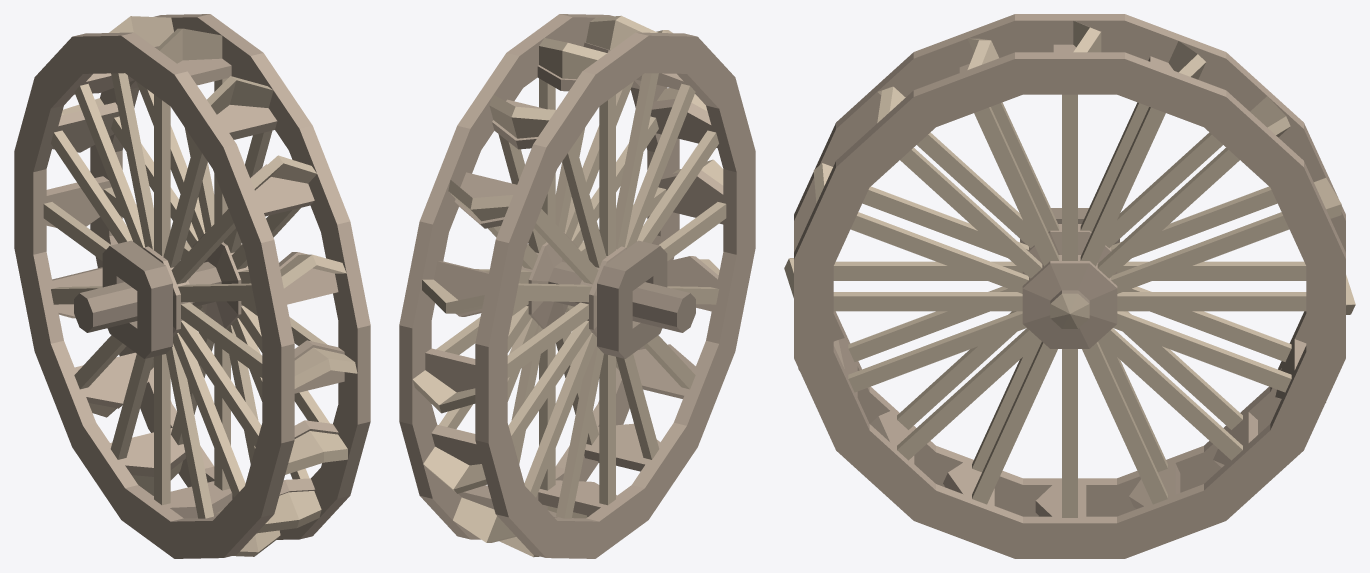
Rendered from Waterwheel_1.glb.
The picture shows the model from 3 angles, left to right: view 1: azimuth 30°, elevation 25°; view 2: azimuth 150°, elevation 25°; view 3: azimuth 270°, elevation 25°; orthographic projection. The views are drawn at different scales.
Parts seen in each view (by area): view 1: waterwheel; view 2: waterwheel; view 3: waterwheel.
Boxes of the visible parts, box(x1,y1,x2,y2) form: waterwheel: box(14, 14, 370, 558); waterwheel: box(399, 14, 755, 558); waterwheel: box(784, 14, 1355, 558).
Size of the model in its own units: 1.5 by 4.4 by 4.4.
